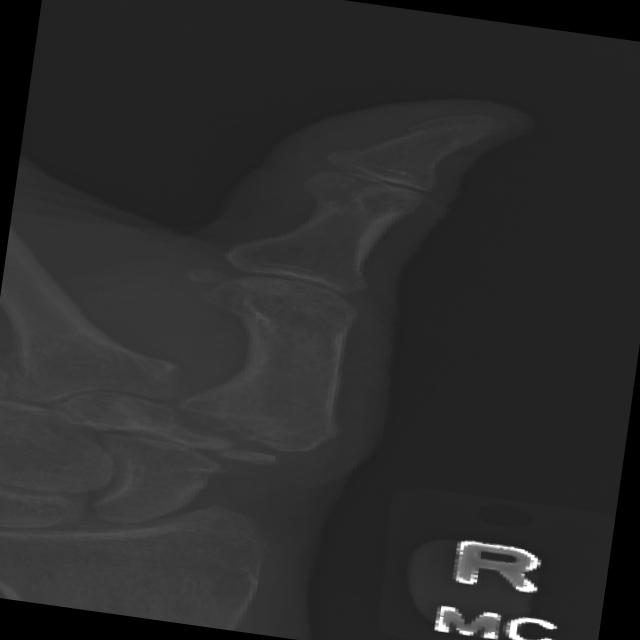fingers positive: (144, 382, 338, 496), (259, 141, 432, 248)
